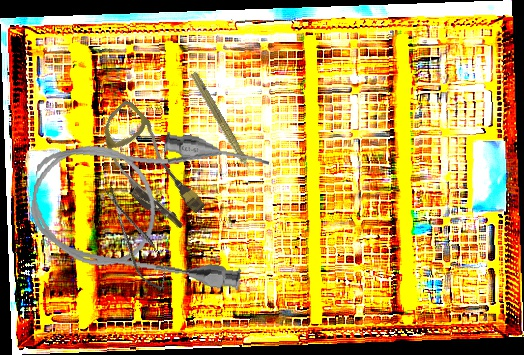Cannula: (23, 114, 272, 294), (81, 98, 218, 237)
Handpiece: (185, 70, 261, 185)
Micro Scissor: (97, 179, 174, 296)
